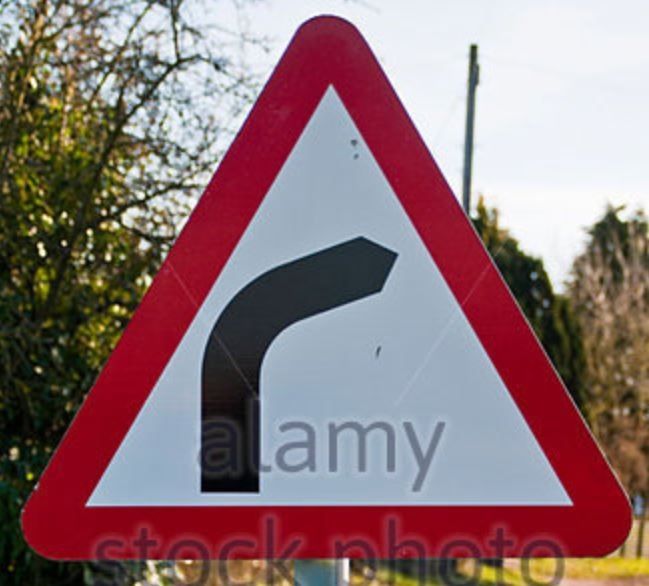Bend_to_right: (15, 11, 636, 561)
